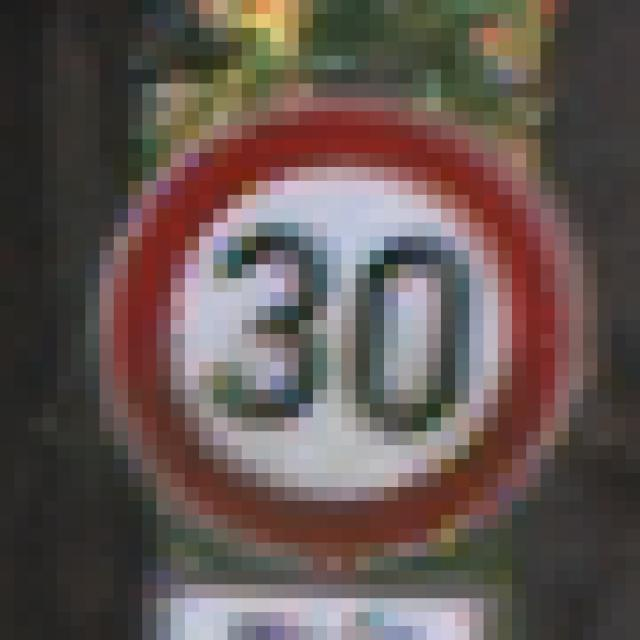Speed Limit -30-: (78, 76, 562, 564)
